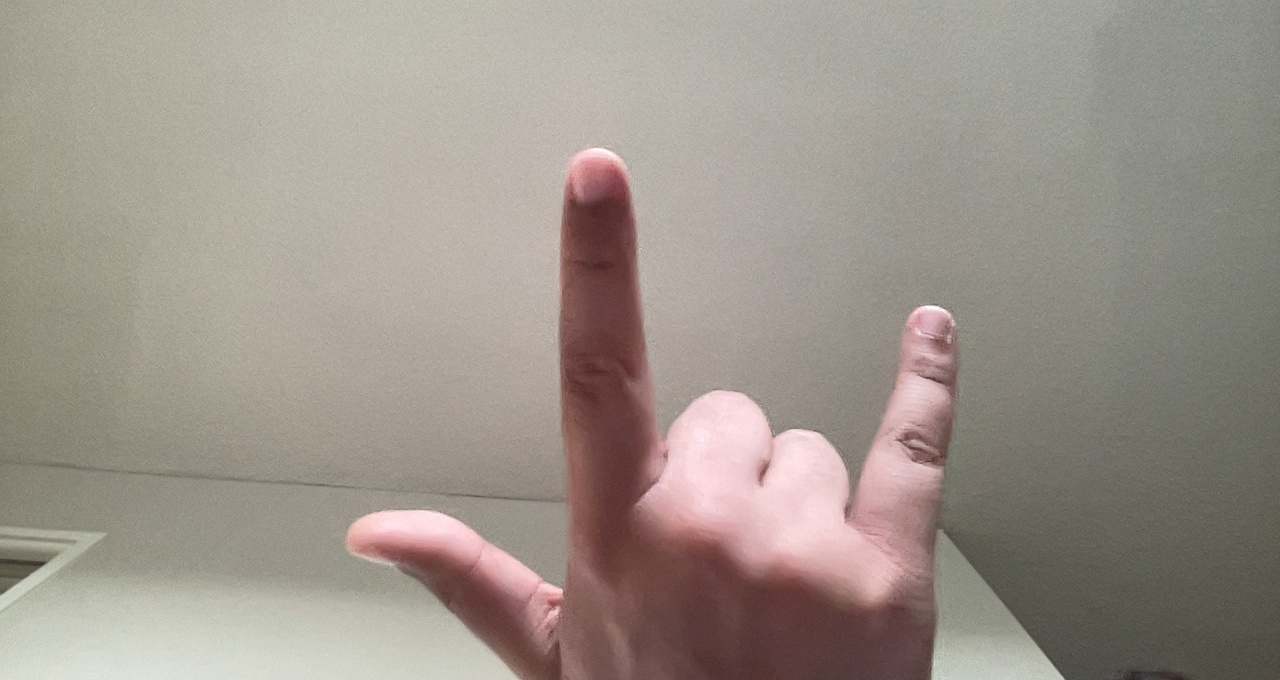rockon sign: (339, 140, 988, 678)
